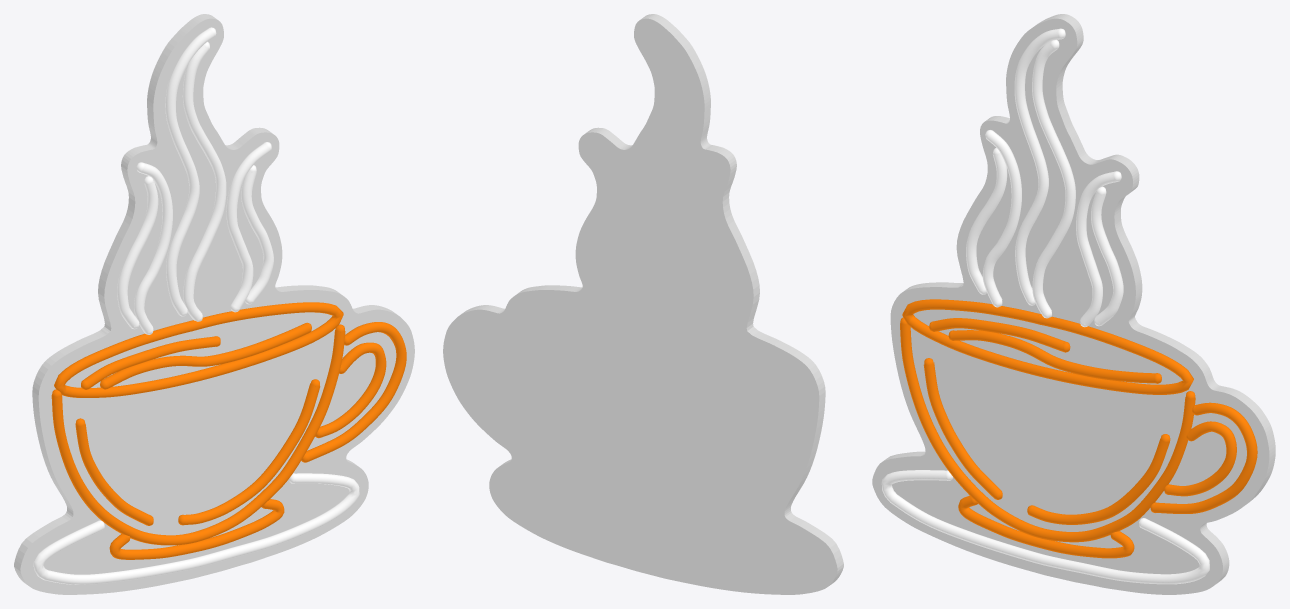
File: コーヒー.glb
3 views of the same model, side by side, from view 1: azimuth 30°, elevation 25°; view 2: azimuth 150°, elevation 25°; view 3: azimuth 330°, elevation 25° (orthographic).
Size of the model in its own units: 251 by 338 by 12.
